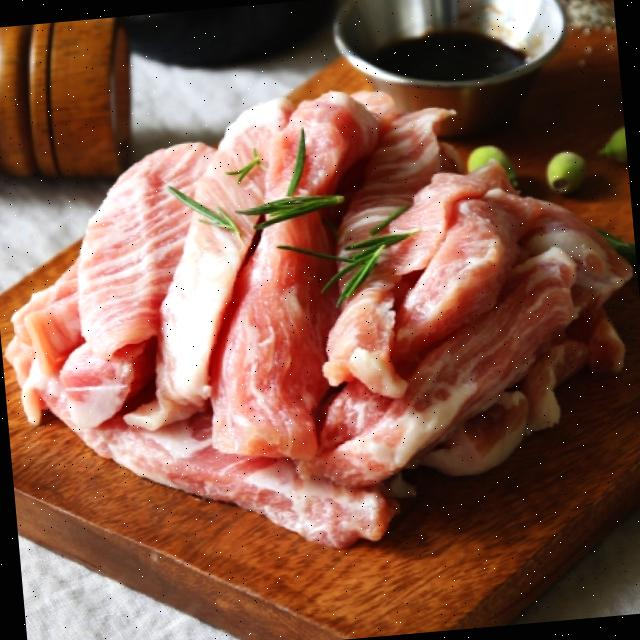meat: (1, 65, 640, 571)
